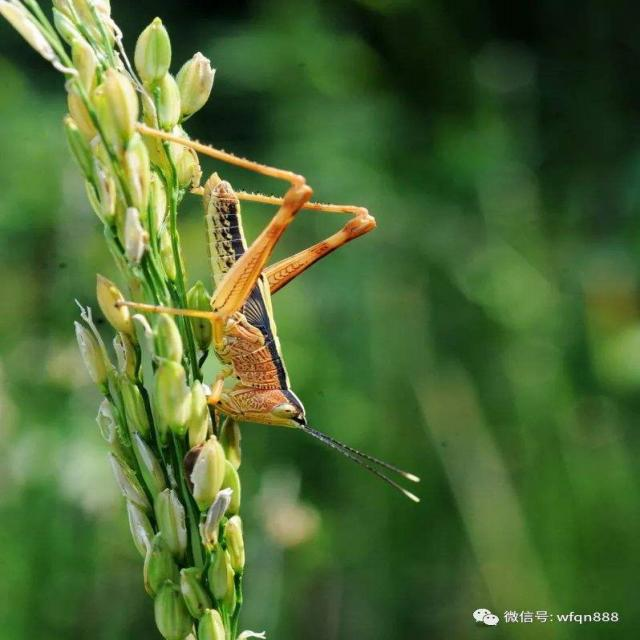ZhaMeng: (124, 113, 398, 450)
